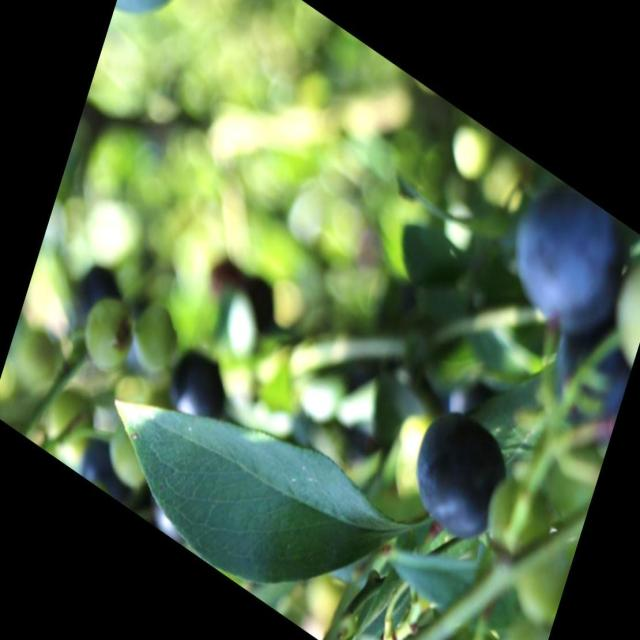blueberry: (496, 162, 635, 358), (403, 391, 517, 554), (159, 335, 232, 439)
blueberry-unripe: (40, 377, 109, 475), (74, 284, 137, 378), (127, 298, 183, 384), (100, 419, 160, 499)
